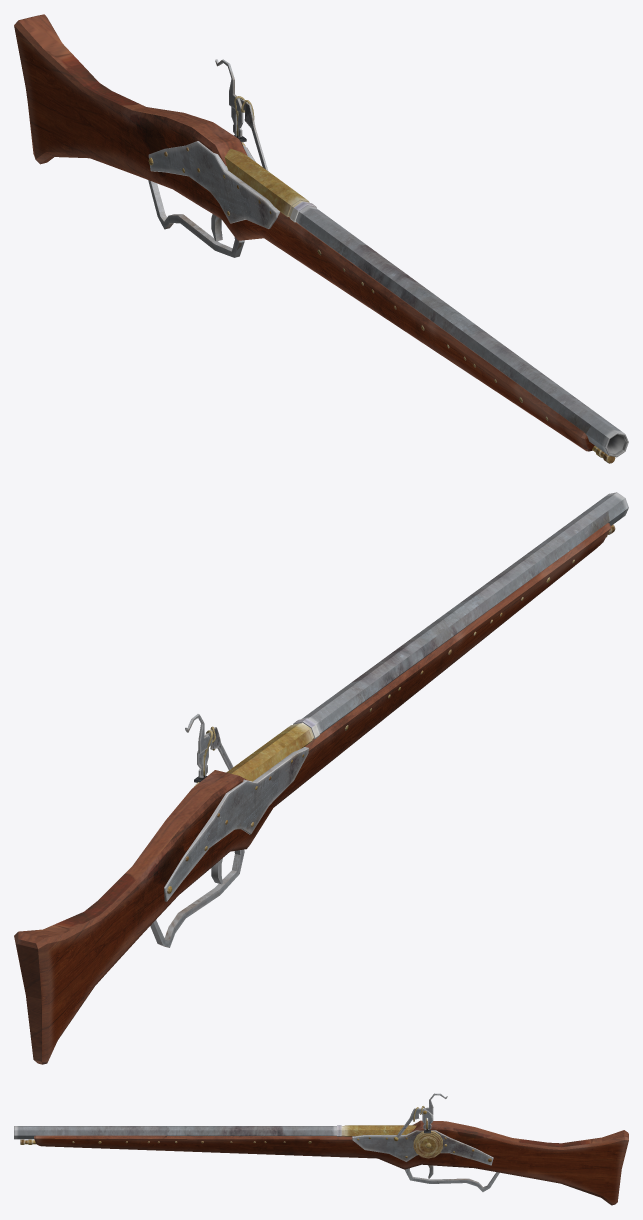
The model's file is arquebus.obj.
3 renders of one model, top to bottom at view 1: azimuth 30°, elevation 25°; view 2: azimuth 150°, elevation 25°; view 3: azimuth 270°, elevation 25°, orthographic. The views are drawn at different scales.
Parts seen in each view (by area): view 1: Arquebus; view 2: Arquebus; view 3: Arquebus.
Boxes of the visible parts, box(x1,y1,x2,y2) form: Arquebus: box(14, 14, 628, 463); Arquebus: box(14, 492, 628, 1064); Arquebus: box(14, 1093, 628, 1205).
Size of the model in its own units: 0.0714 by 0.359 by 1.74.
1 material, 1 textured.
